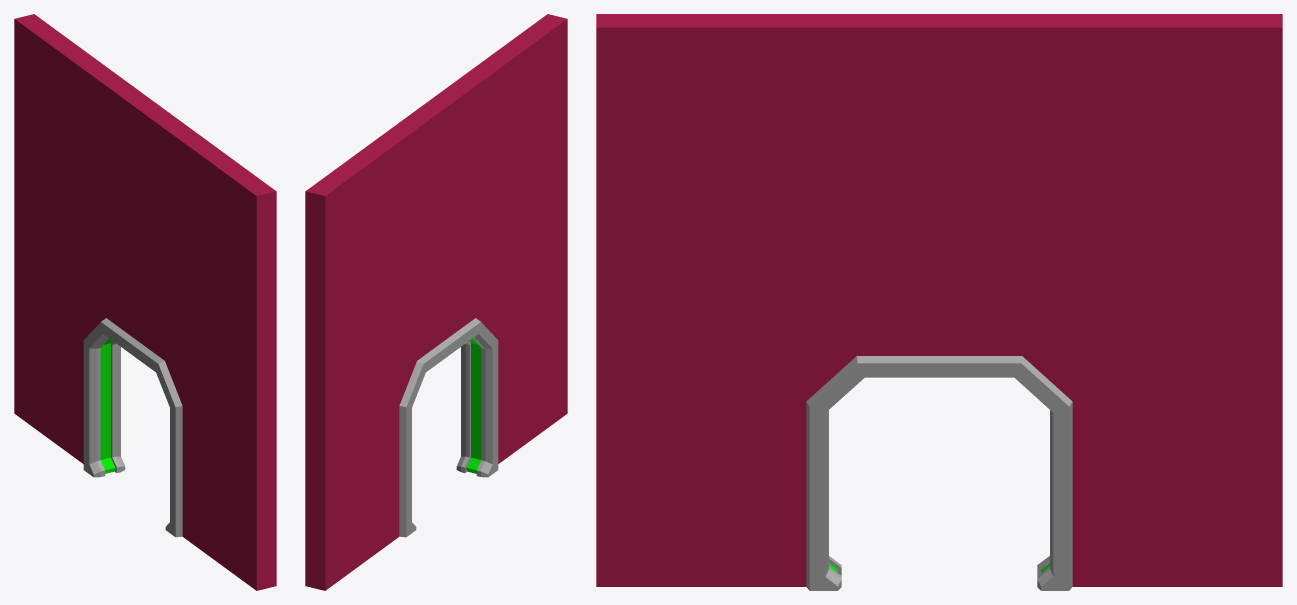
File: SM_Wall_Gate_02.fbx
The picture shows the model from 3 angles, left to right: view 1: azimuth 30°, elevation 25°; view 2: azimuth 150°, elevation 25°; view 3: azimuth 270°, elevation 25°; orthographic projection. The views are drawn at different scales.
Parts seen in each view (by area): view 1: SM_Wall_Gate_02; view 2: SM_Wall_Gate_02; view 3: SM_Wall_Gate_02.
Part boxes in pixels (x1,y1,x2,y2): SM_Wall_Gate_02: (14,14,276,590); SM_Wall_Gate_02: (305,14,567,590); SM_Wall_Gate_02: (596,14,1282,590).
Size of the model in its own units: 160 by 1906 by 2119.
